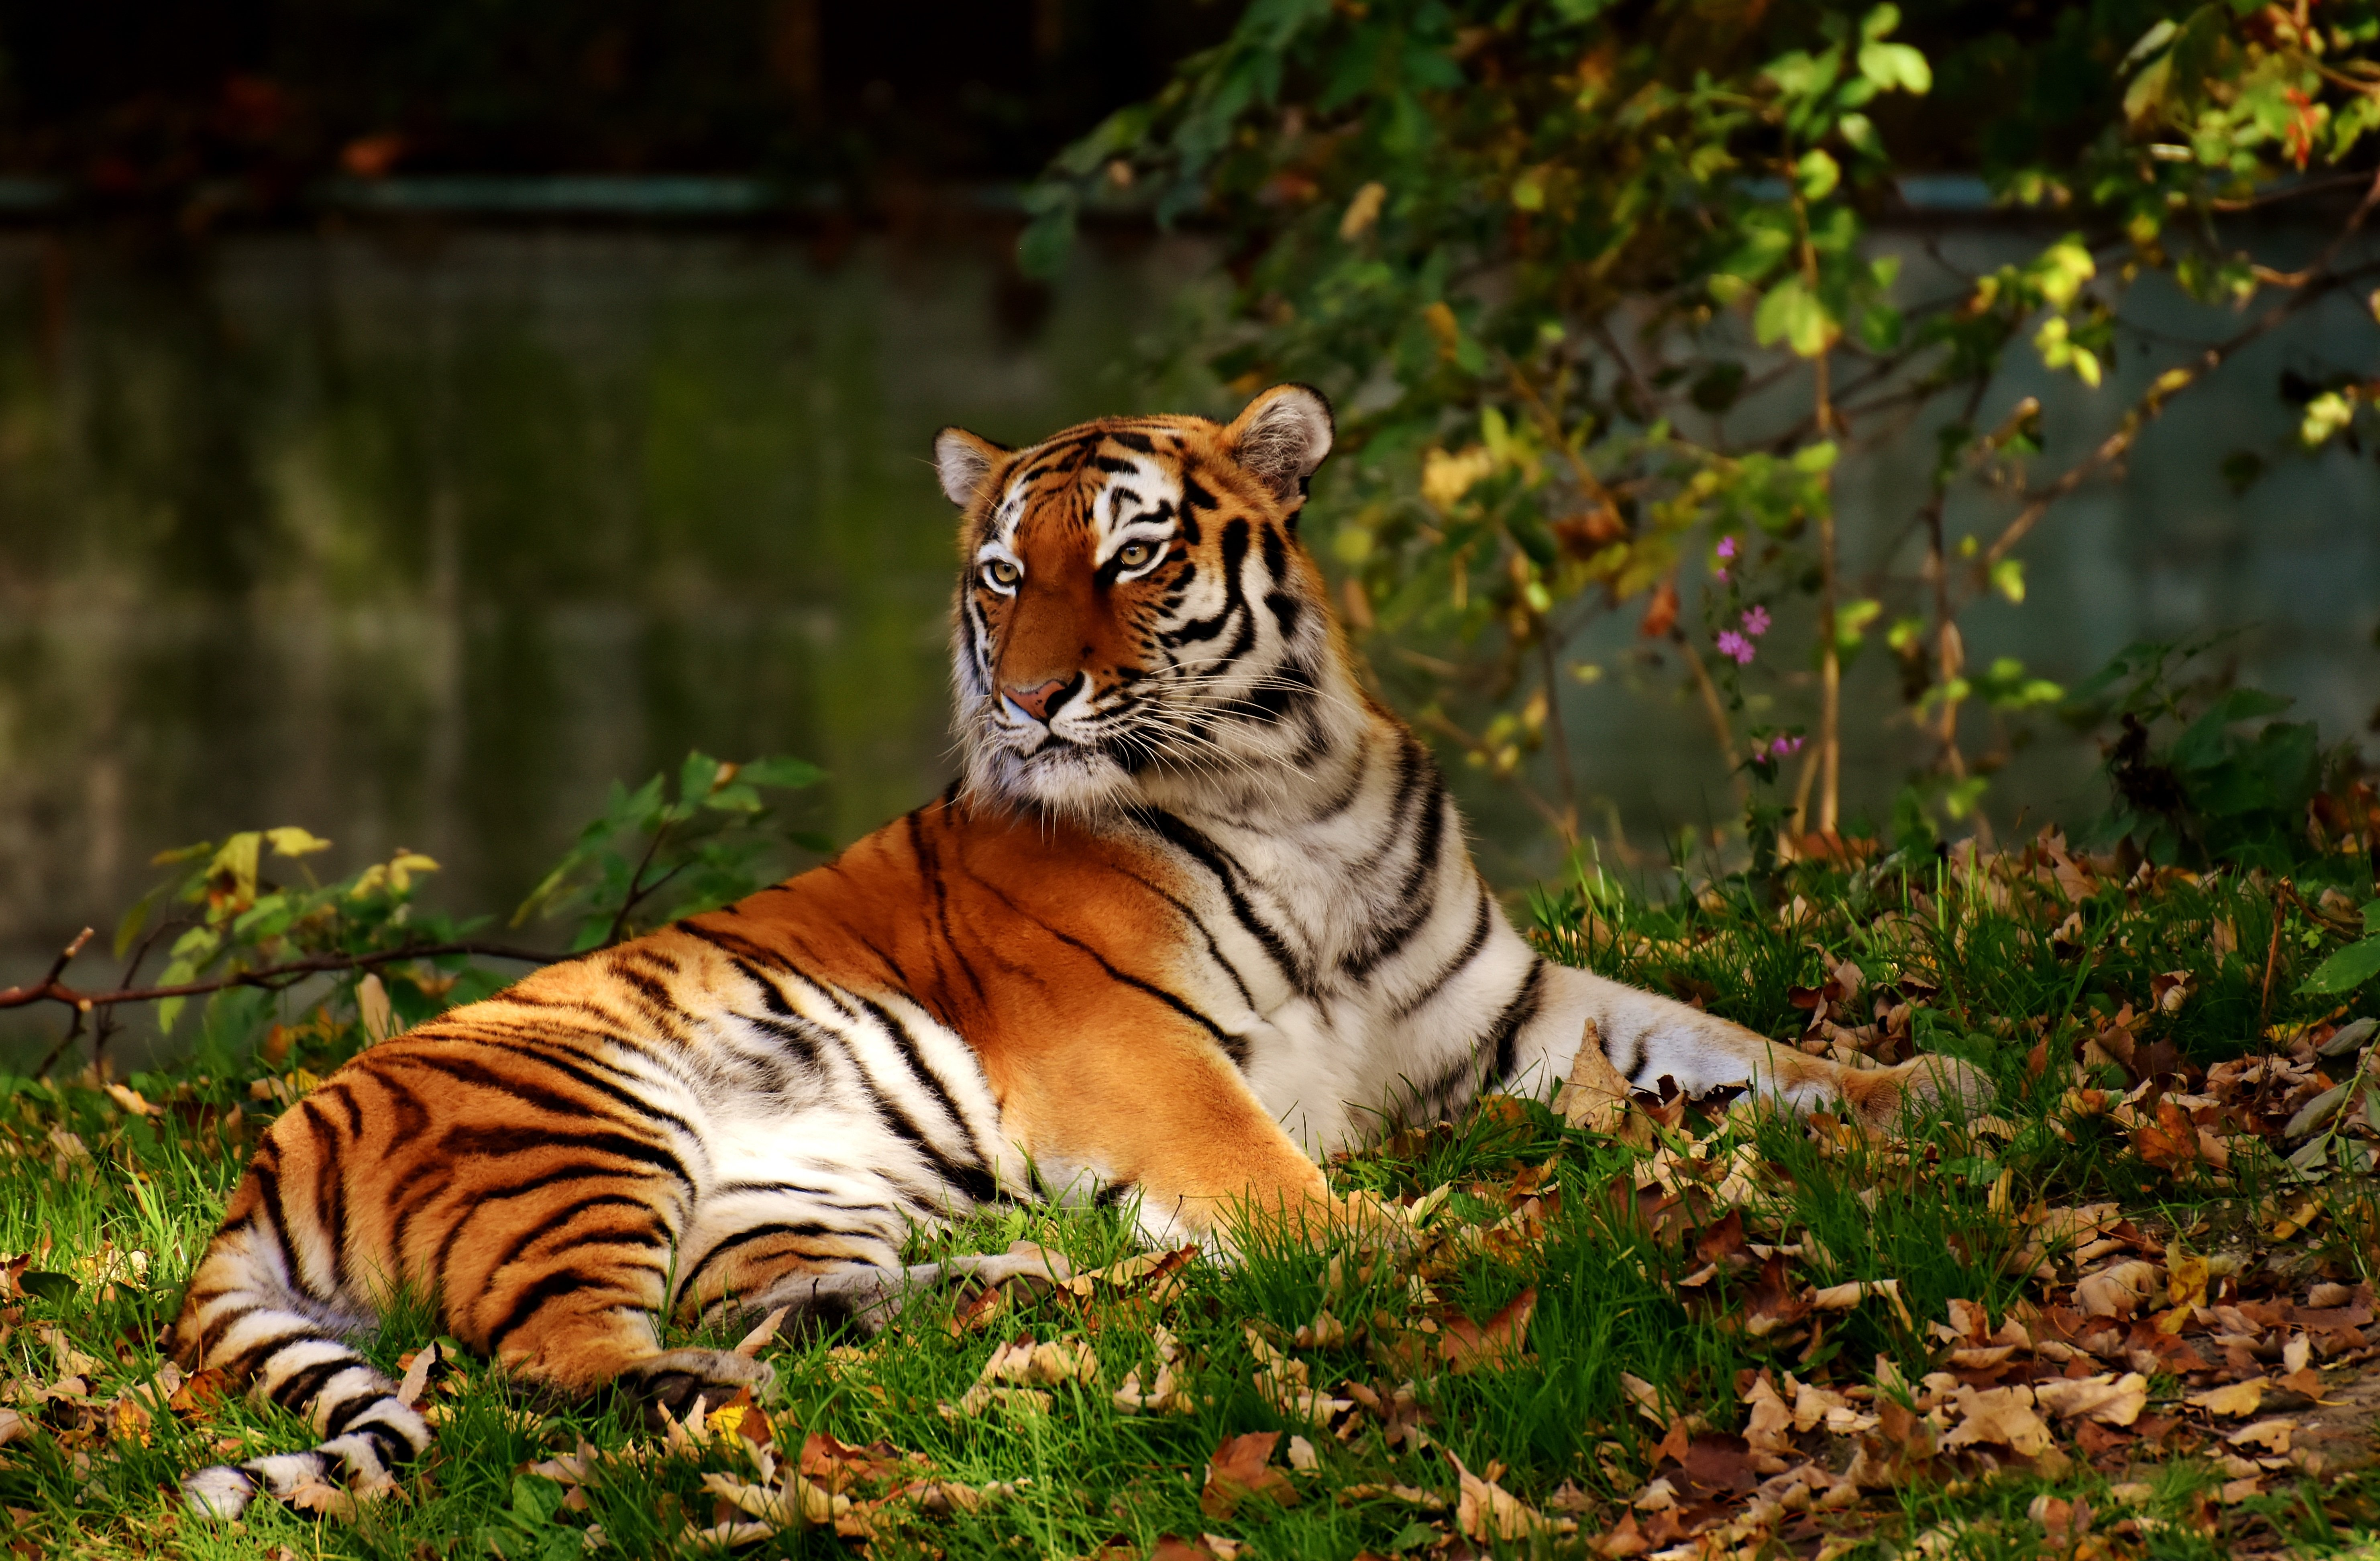tiger: (164, 369, 1859, 1375)
